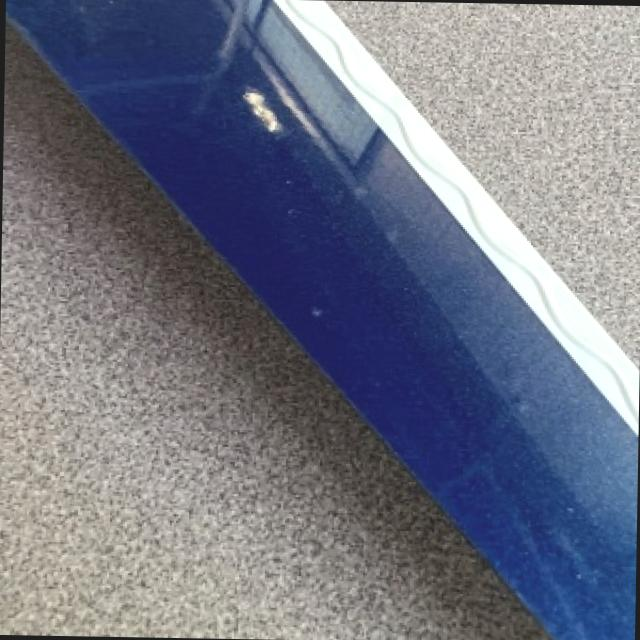healthy: (0, 24, 552, 640)
